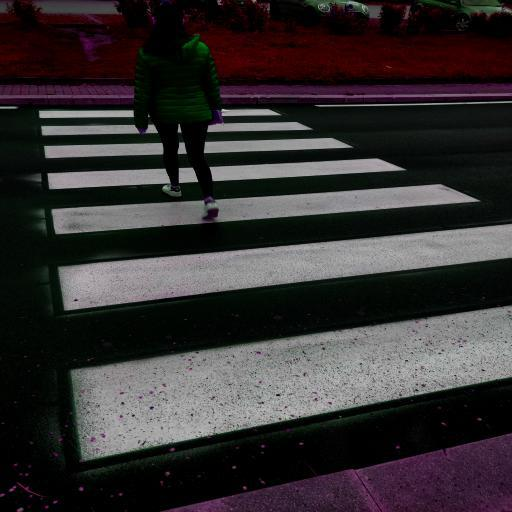crosswalk: (34, 150, 490, 242), (26, 106, 322, 138)
